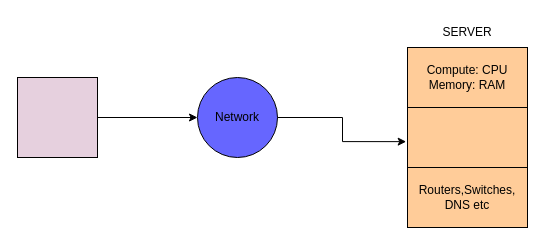
The diagram is 545 pixels wide and 245 high, and some of its shapes have lost their labels. Each missing label, with the centre of its shape:
"CLIENT" goes at point 57,117.
"Data Storage" goes at point 467,137.
